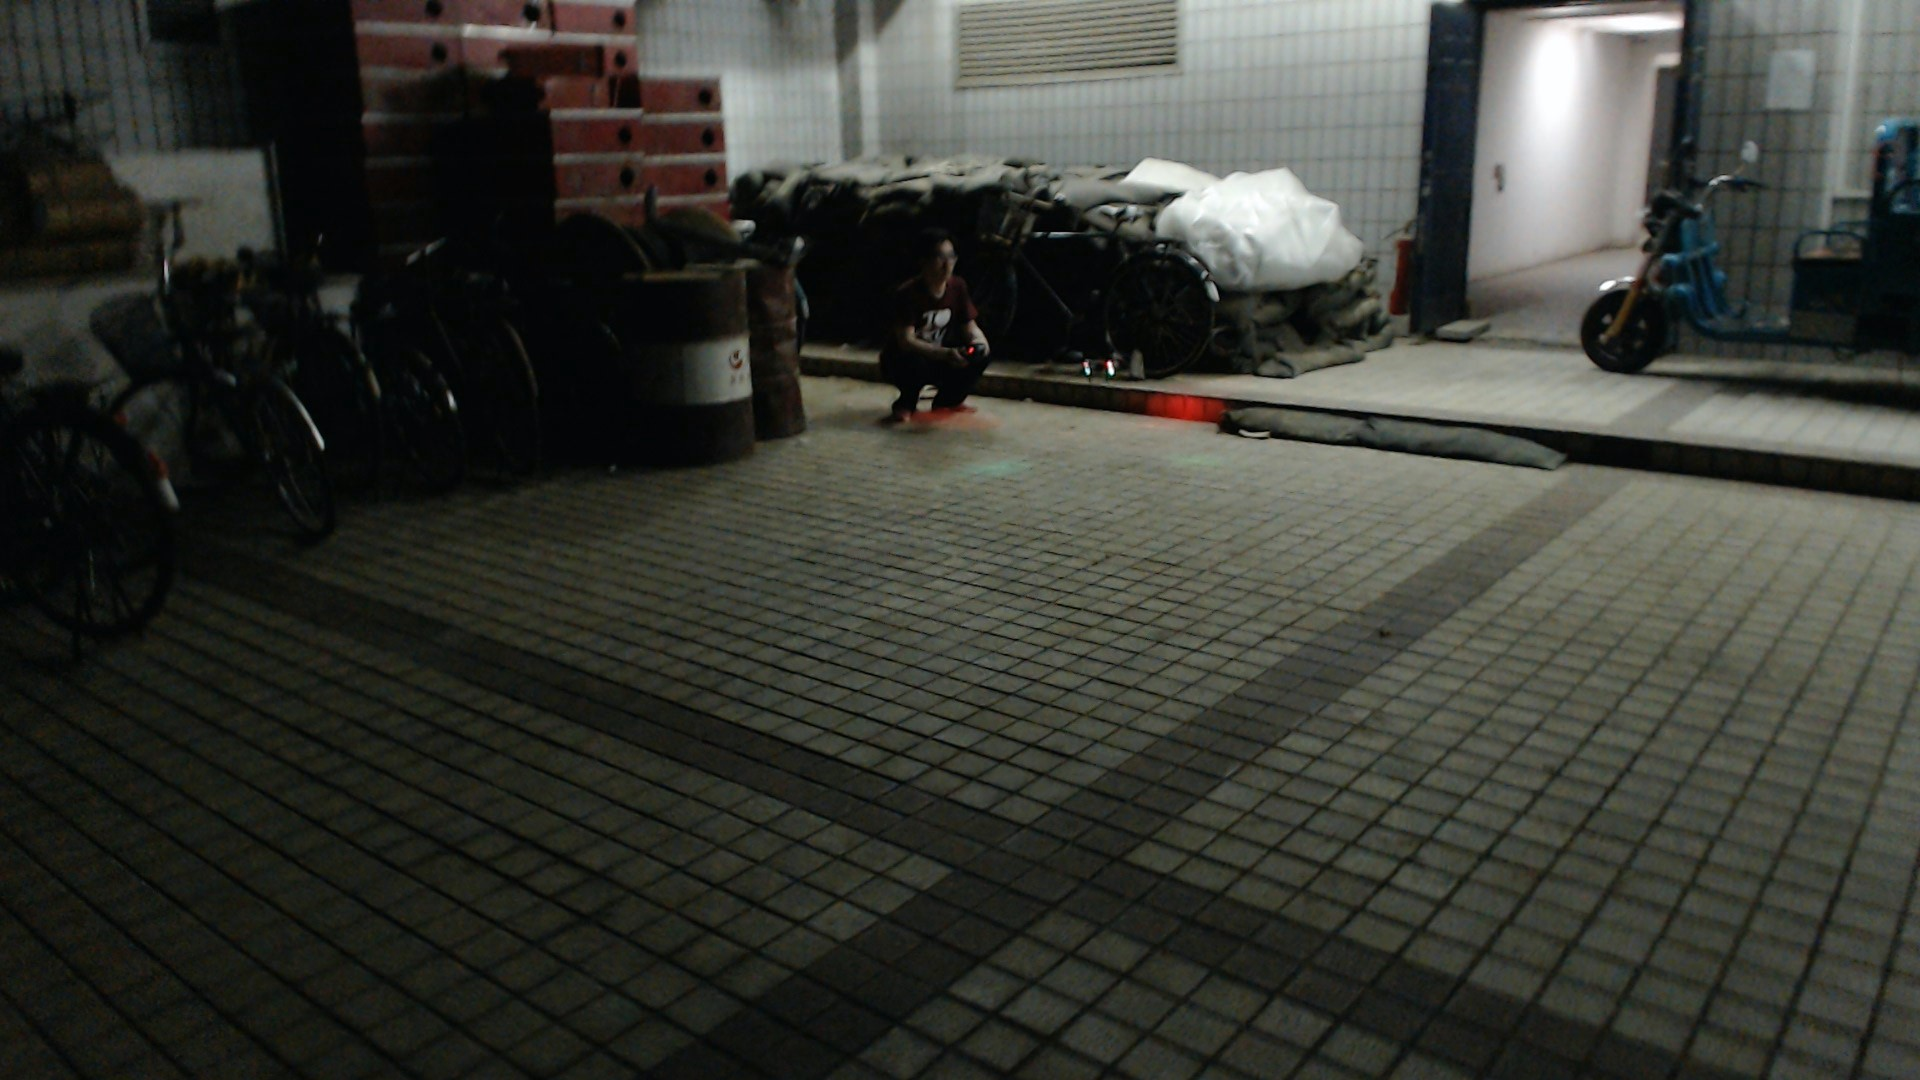human: (875, 231, 1000, 433)
test_drone: (1062, 337, 1138, 384)
